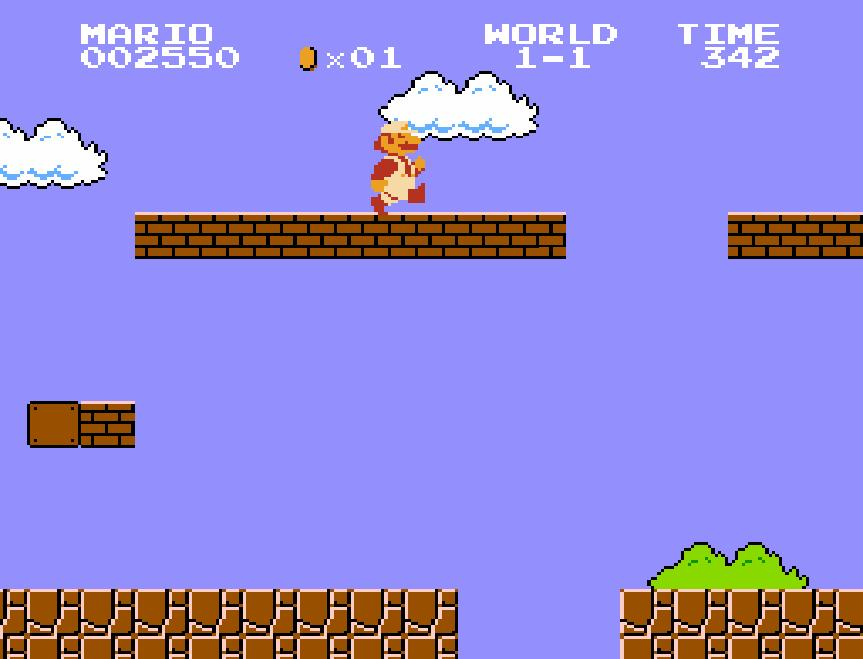fire_mario: (368, 118, 426, 216)
